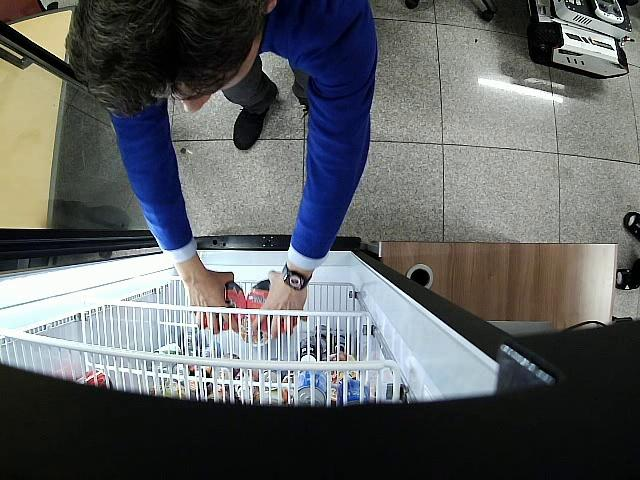00_hand: (250, 270, 307, 337), (189, 271, 239, 334)
01_shinRamen_L: (247, 281, 297, 335), (201, 280, 244, 331)
